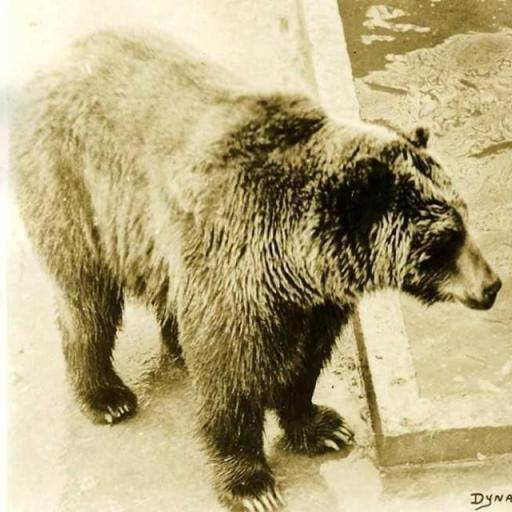Bear: (7, 26, 502, 512)
